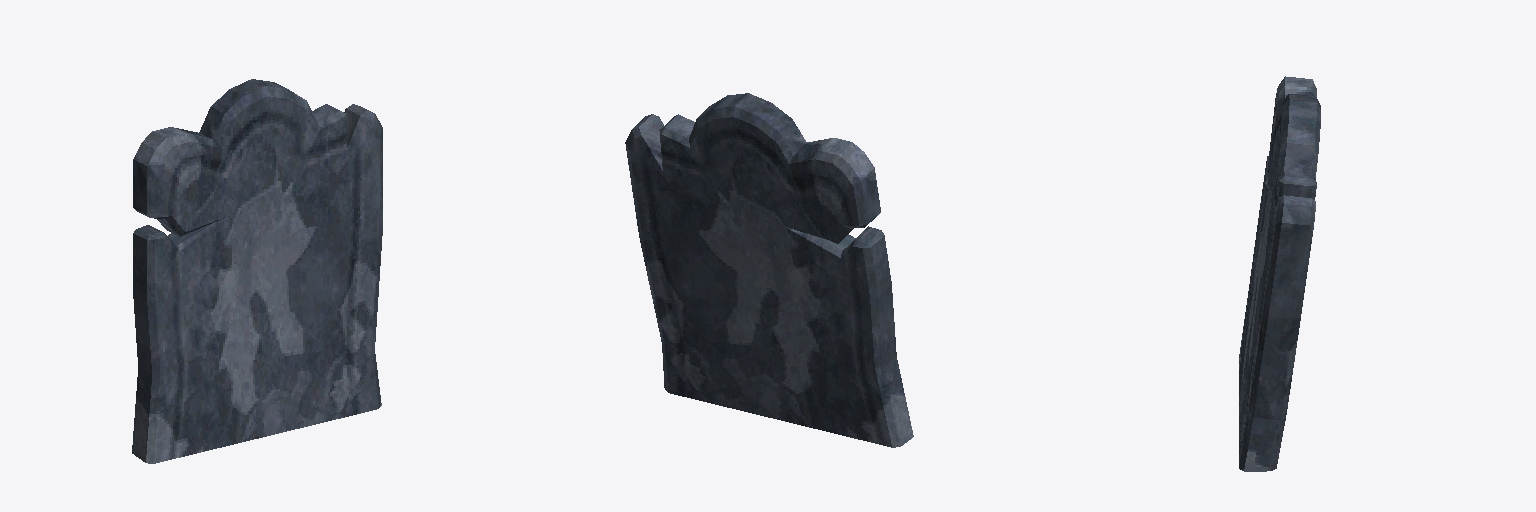
The picture shows the model from 3 angles: view 1: azimuth 30°, elevation 25°; view 2: azimuth 150°, elevation 25°; view 3: azimuth 270°, elevation 25°; orthographic projection.
Parts seen in each view (by area): view 1: Mesh_0003; view 2: Mesh_0003; view 3: Mesh_0003.
Boxes of the visible parts, <box> form: Mesh_0003: <box>132,79,382,463</box>; Mesh_0003: <box>625,93,913,447</box>; Mesh_0003: <box>1239,76,1320,471</box>.
Size of the model in its own units: 2.58 by 3.13 by 0.72.
Materials: 1 (1 with a texture image).